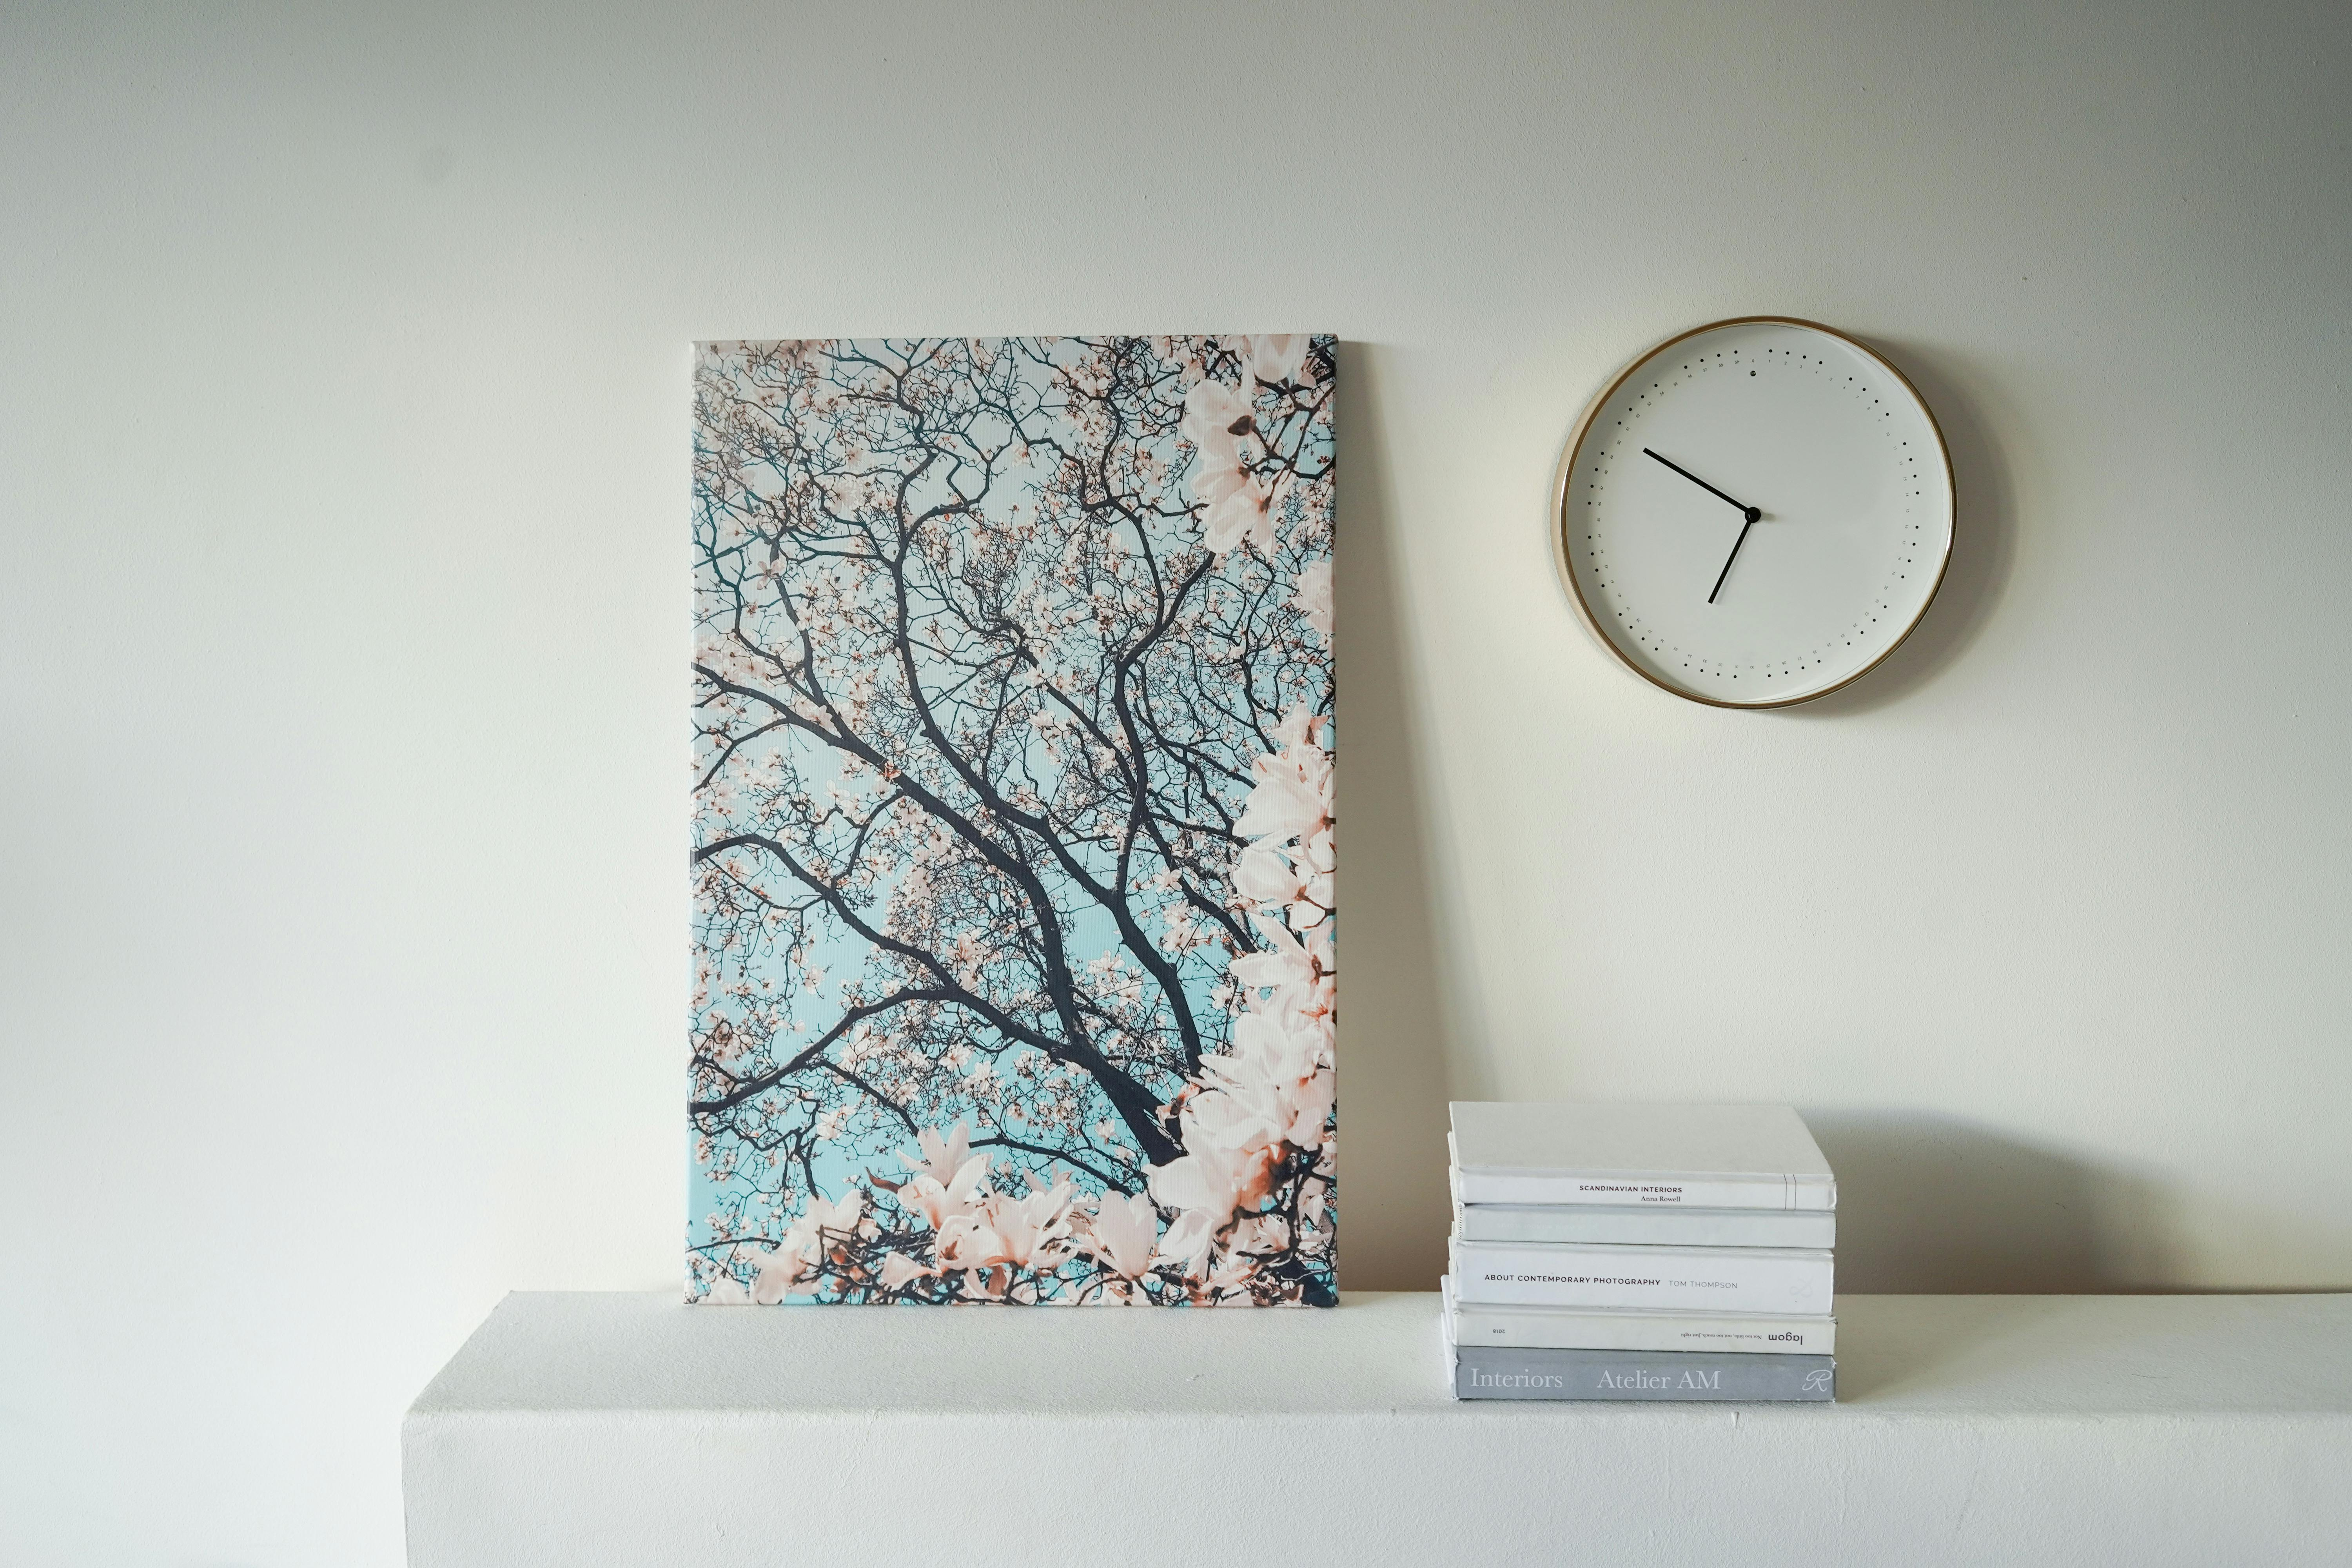clock: (1498, 266, 2048, 754)
